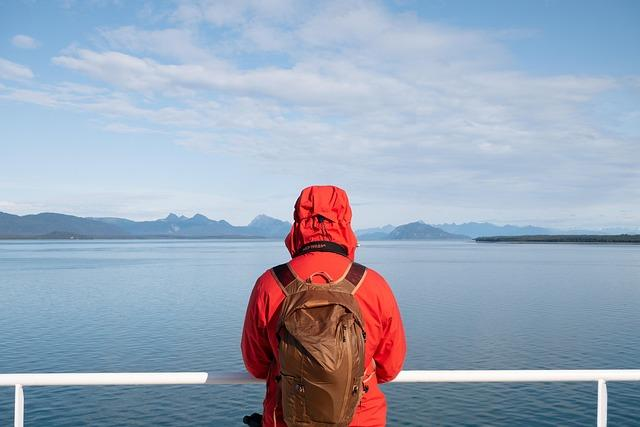Non_Gorille: (140, 109, 530, 427)
